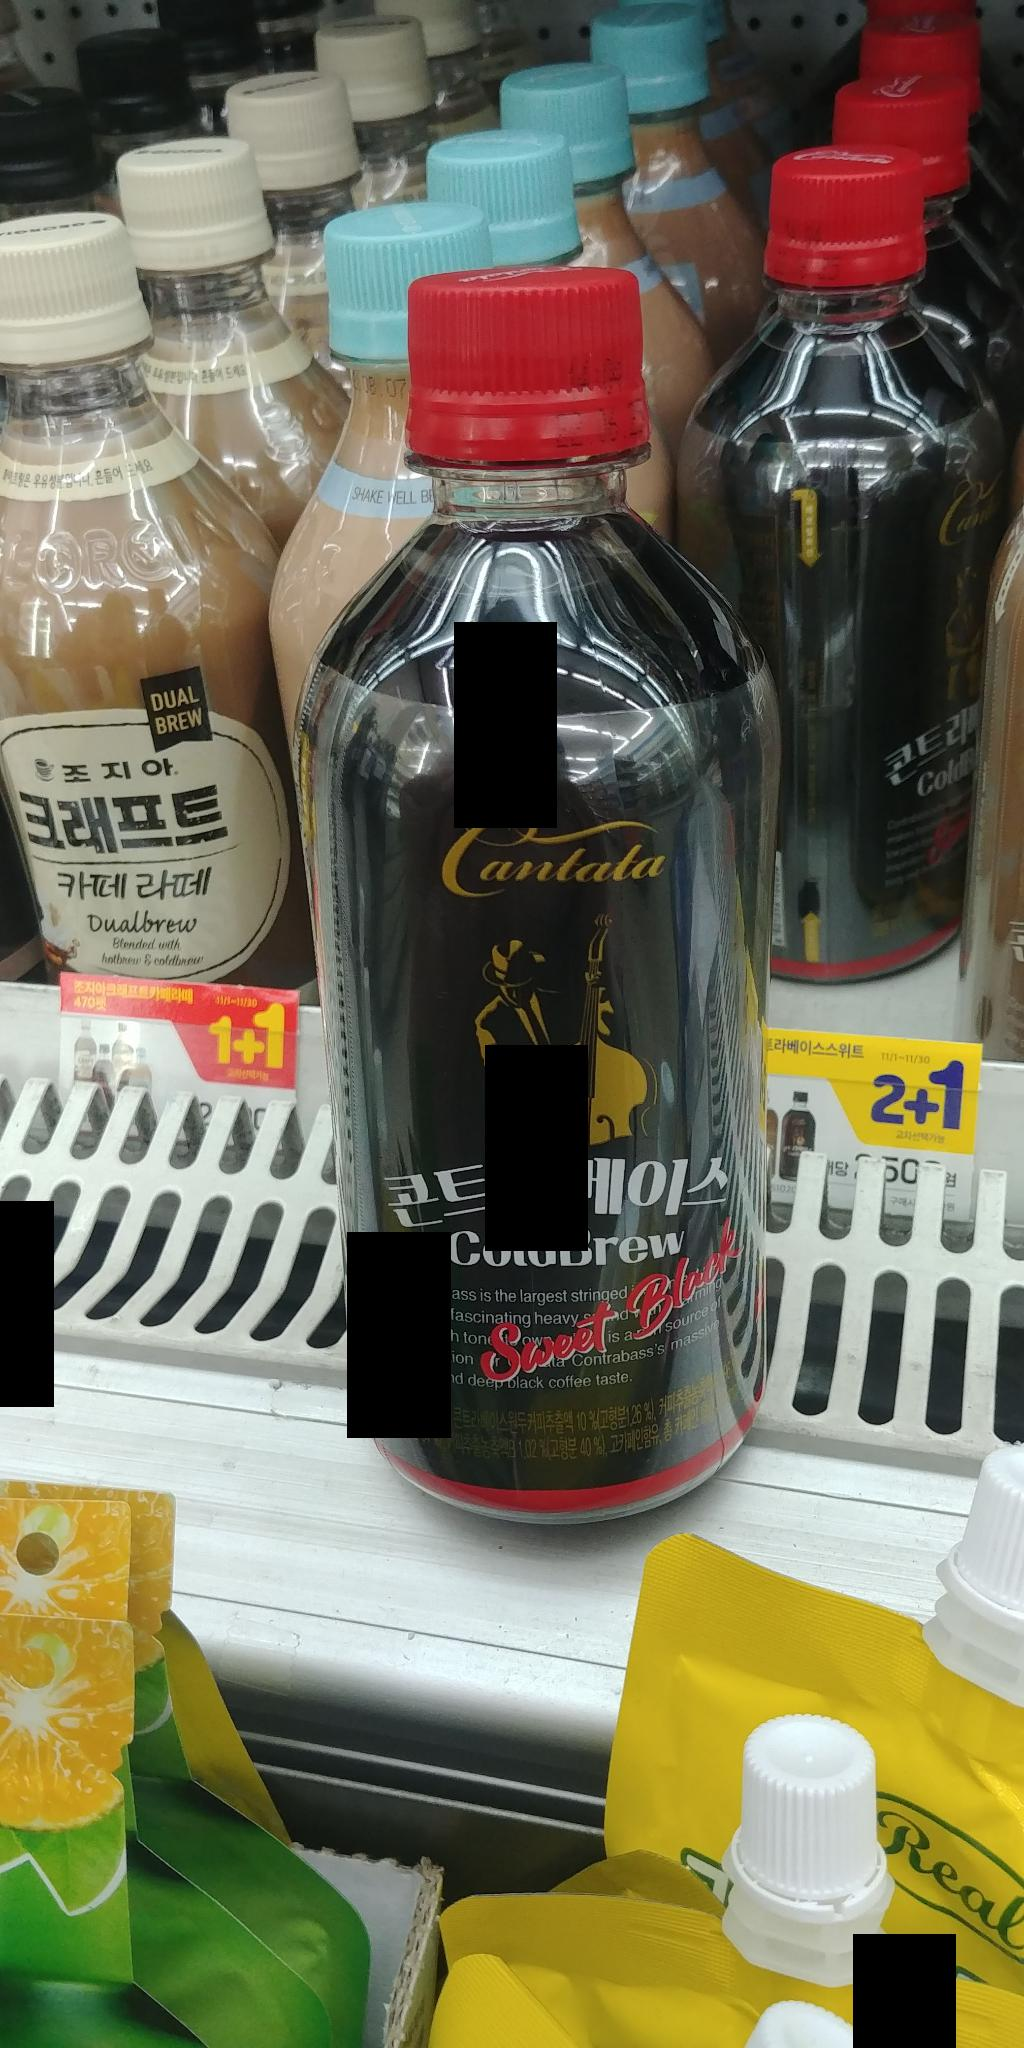contrabass_sweetblack: (277, 256, 792, 1554)
